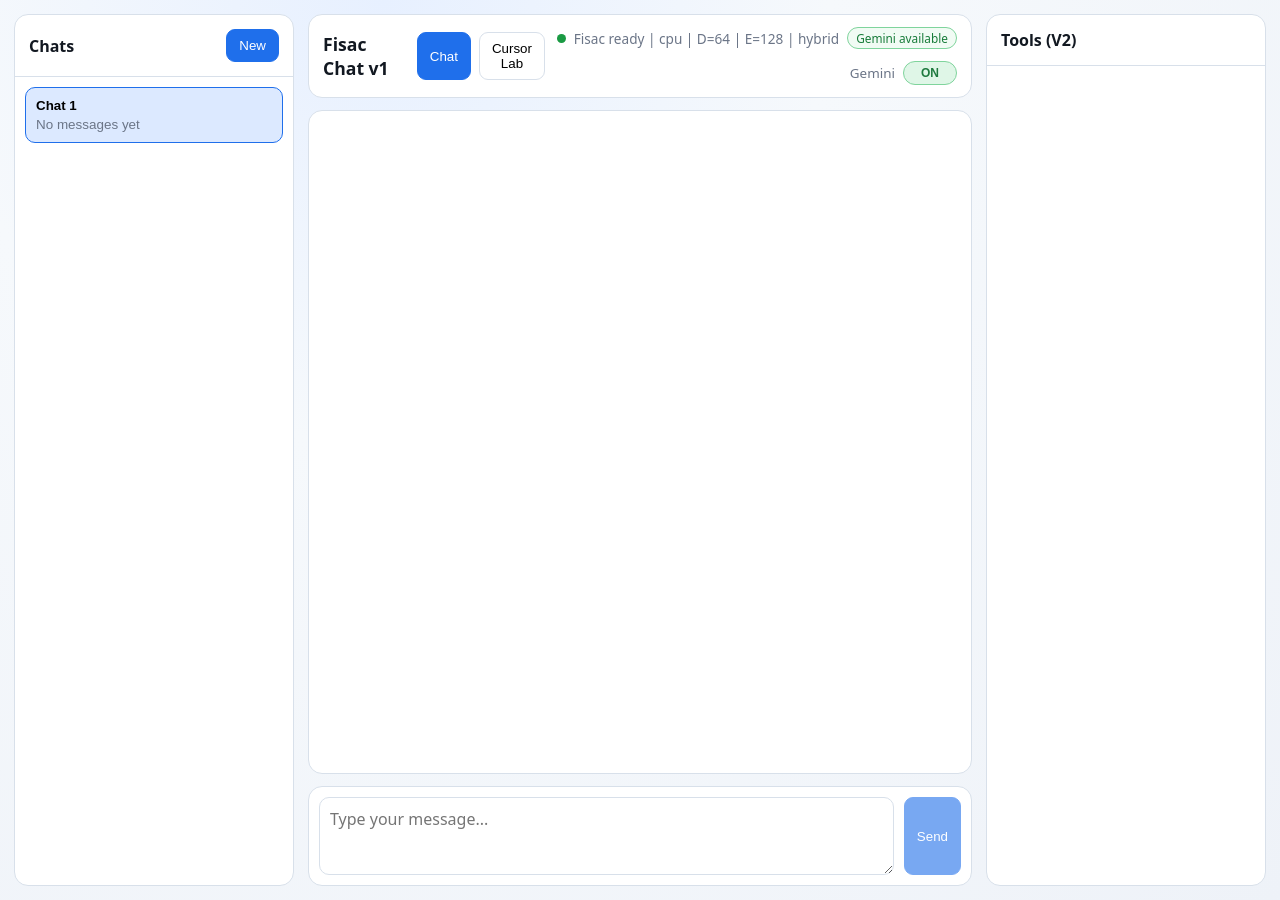
Scenario: App Gemini toggle › patches conversation gemini_enabled when toggle is clicked
The width and height of the screenshot is (1280, 900).
expect the text "Gemini" is shown: met, box [850,64,895,82]
What coordinates should you click on to do the following:
click the button named "Gemini"
I would click on:
 (930, 73)
Its box is [903,61,957,85].
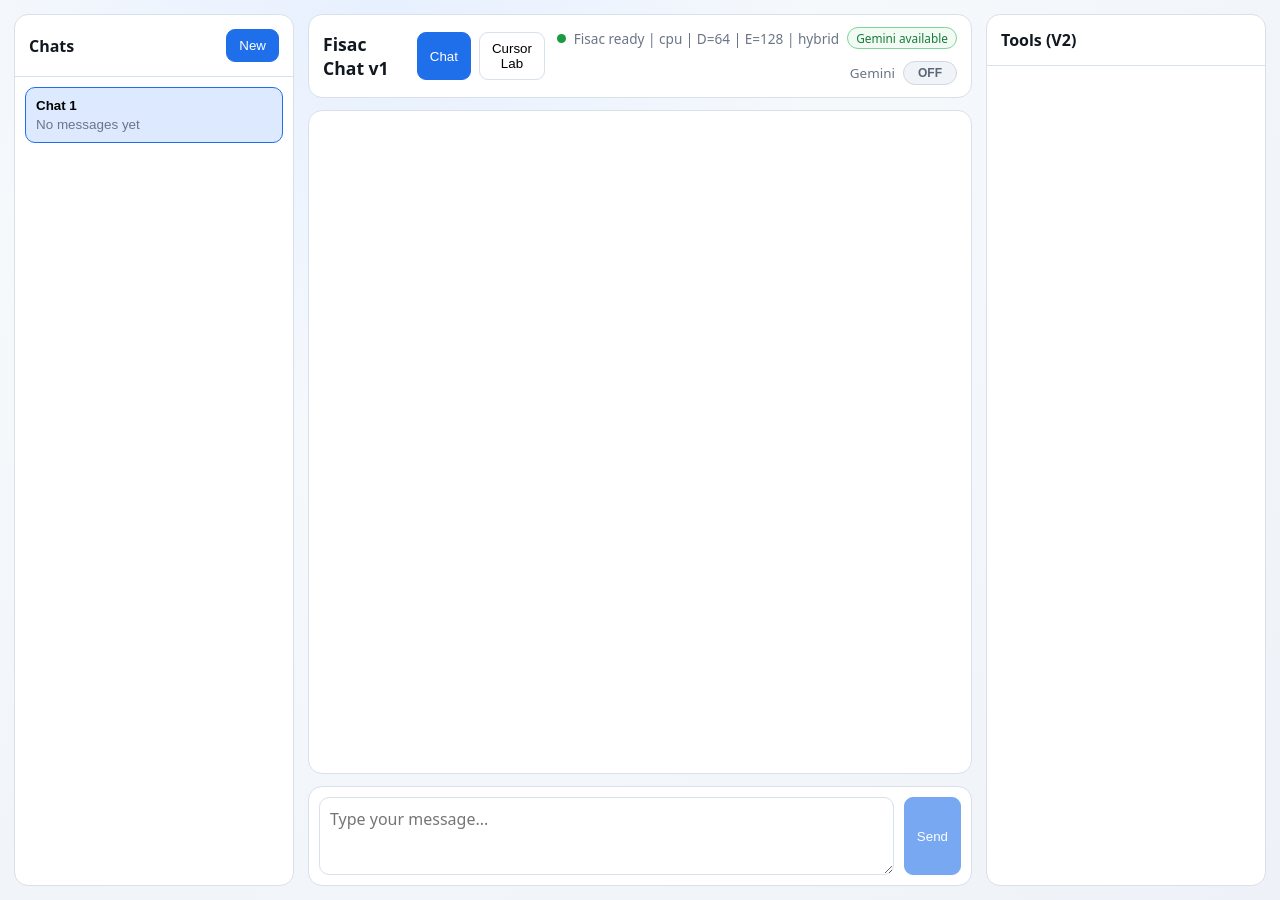
expect the button named "Gemini" reads "OFF": met, box [903,61,957,85]
